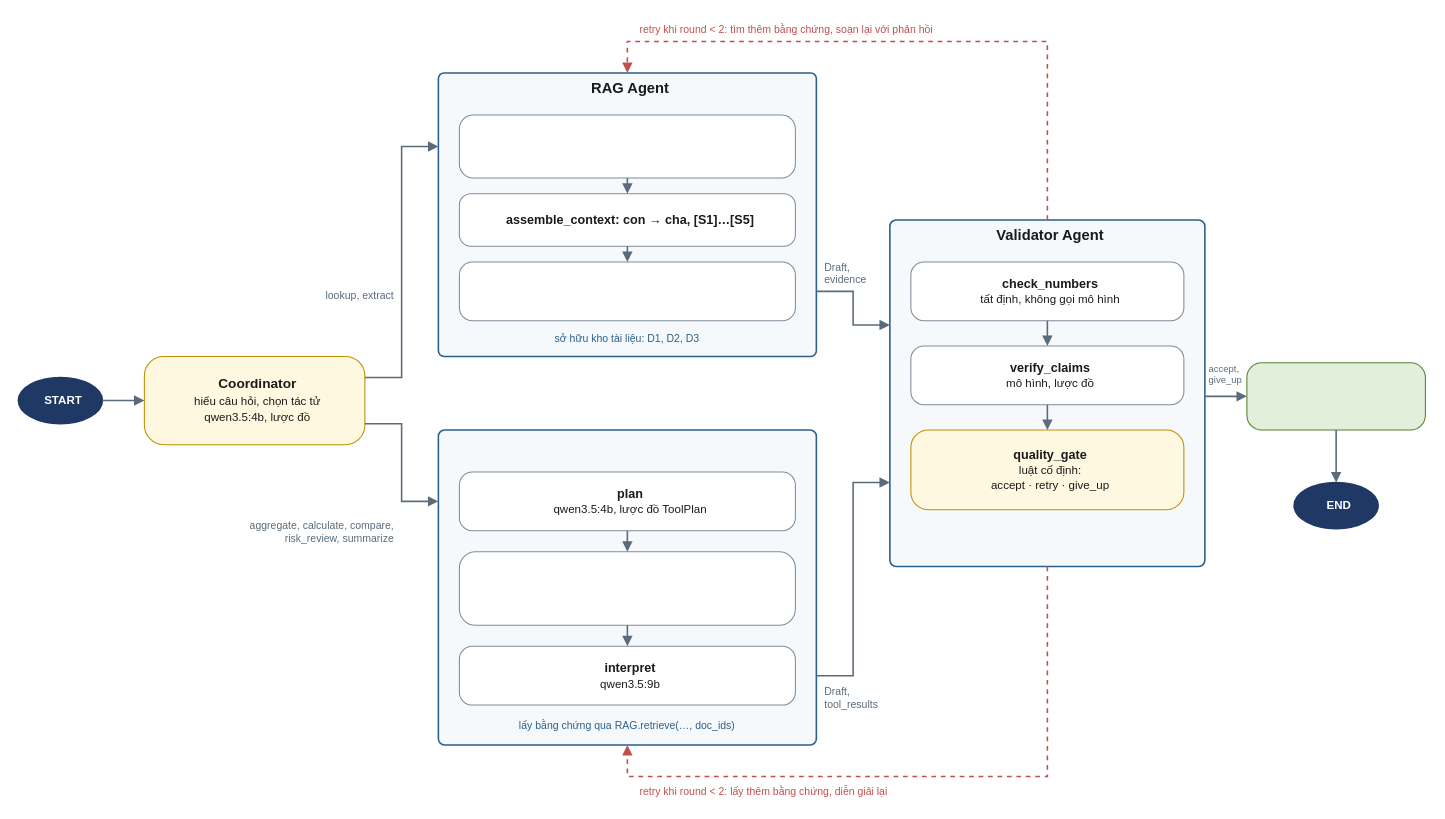
This 1445x819 diagram has some shape labels left out. The box of each missing label's shape, as (x1, y1, x2, y2) in pixels:
Analyst Agent: (437, 429, 817, 745)
answer(question, evidence, feedback) qwen3.5:9b: (458, 261, 795, 321)
finalize trích dẫn, cảnh báo, lưu: (1246, 362, 1425, 430)
retrieve(query, doc_ids) hybrid 40 + 40 → RRF → rerank → 5: (458, 114, 795, 178)
run_tools (tất định) outline · calculate · compare extract_table · risk_check: (458, 551, 795, 625)
